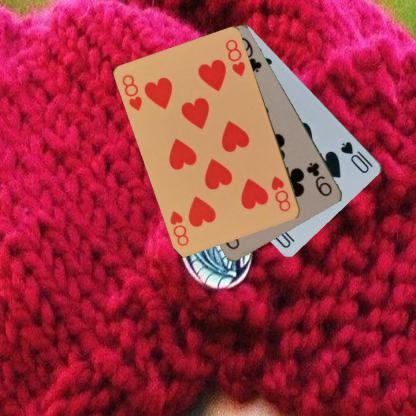10s: (338, 138, 374, 174)
8h: (119, 72, 144, 112), (268, 174, 292, 214)
9c: (304, 160, 334, 198)
